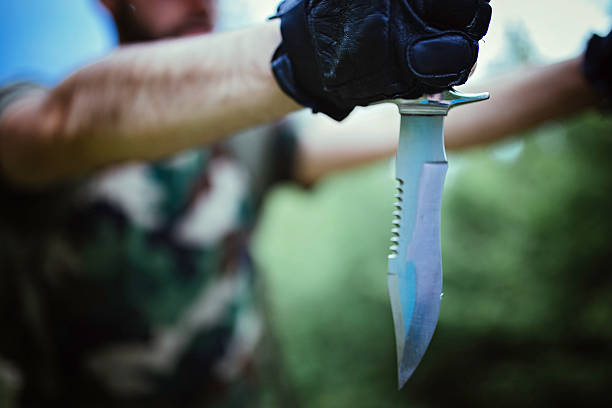knife: (383, 87, 492, 394)
